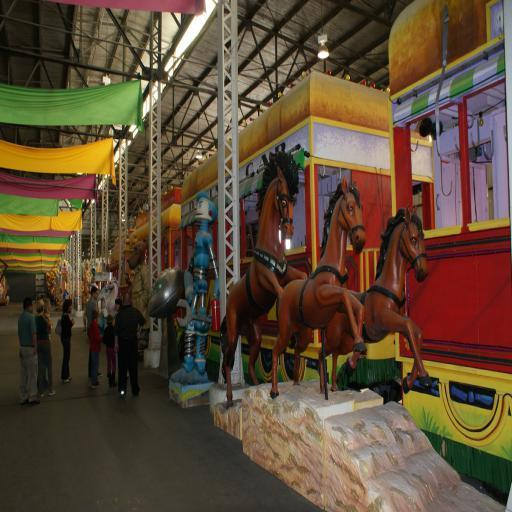horse: (315, 204, 430, 396), (269, 176, 367, 400), (220, 148, 302, 408)
